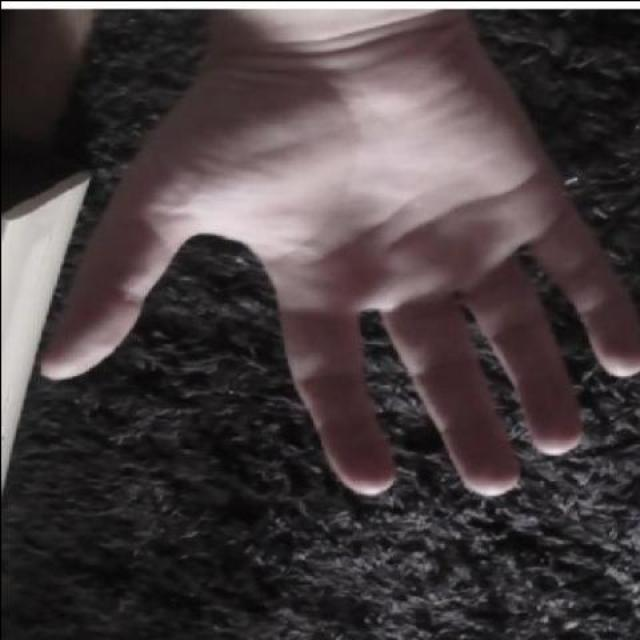Open Hand: (37, 8, 640, 544)
